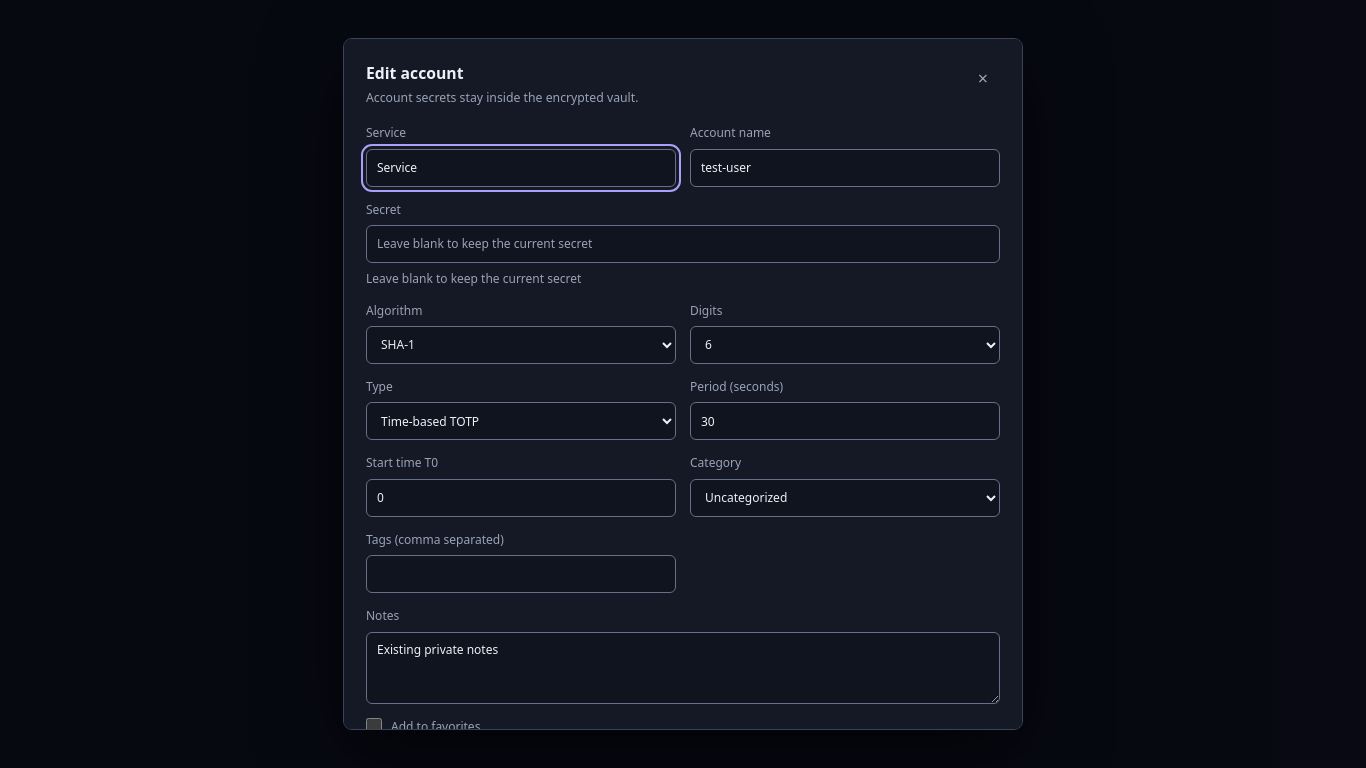
AccountDialog › clears replacement intent and secrets when closed via button and reopened
The width and height of the screenshot is (1366, 768).
Later steps or results of the test are not shown.
Check: the text box labelled "Notes" is enabled, box [366,632,1000,704]
Step 1. Type "JBSWY3DPEHPK3PXP" into the password field labelled "Secret" → (683, 244), box [366,225,1000,263]
(page scrolled)
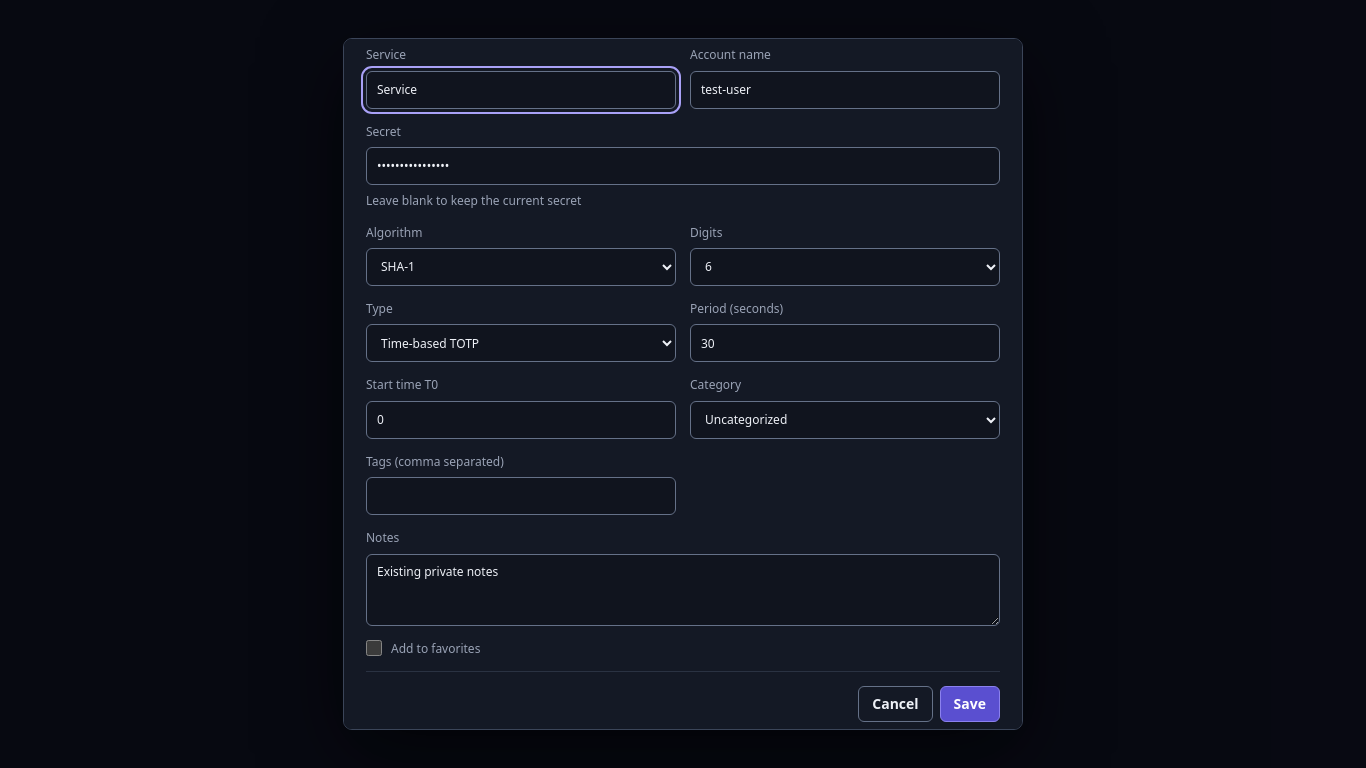
Step 2. Submit the form, box [366,46,1000,722]
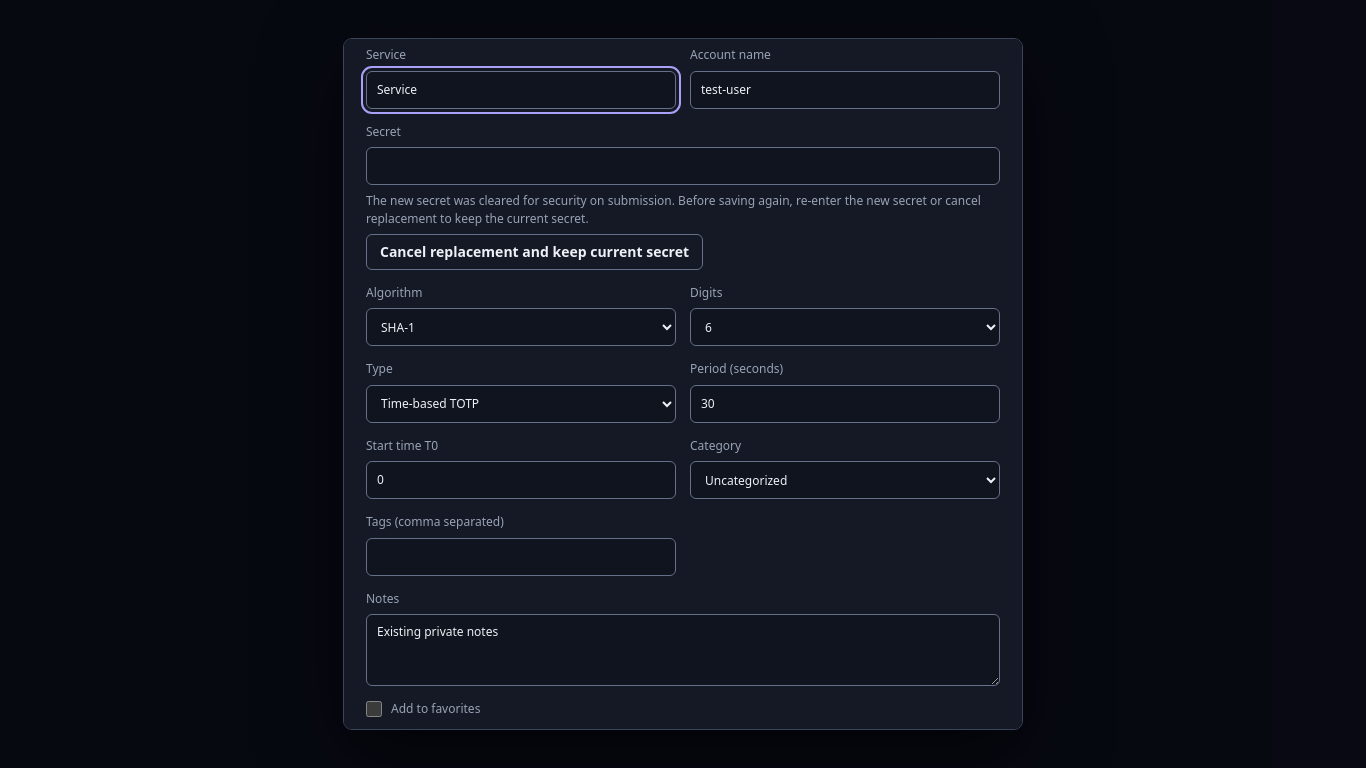
Step 3. Type "MZXW6YTBOI" into the password field labelled "Secret" → (683, 166), box [366,147,1000,185]
(page scrolled)
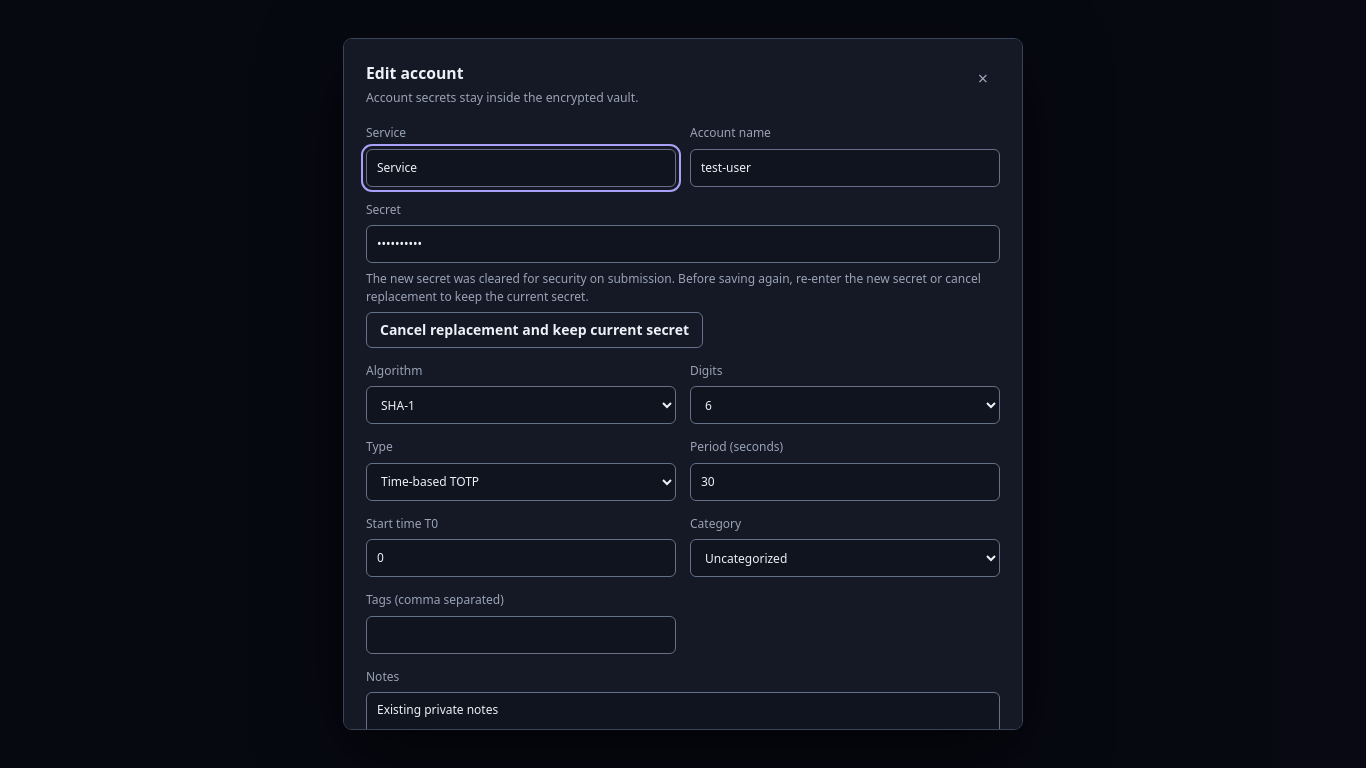
Step 4. Click the button named "Cancel" → click(983, 78), box [966,61,1000,95]
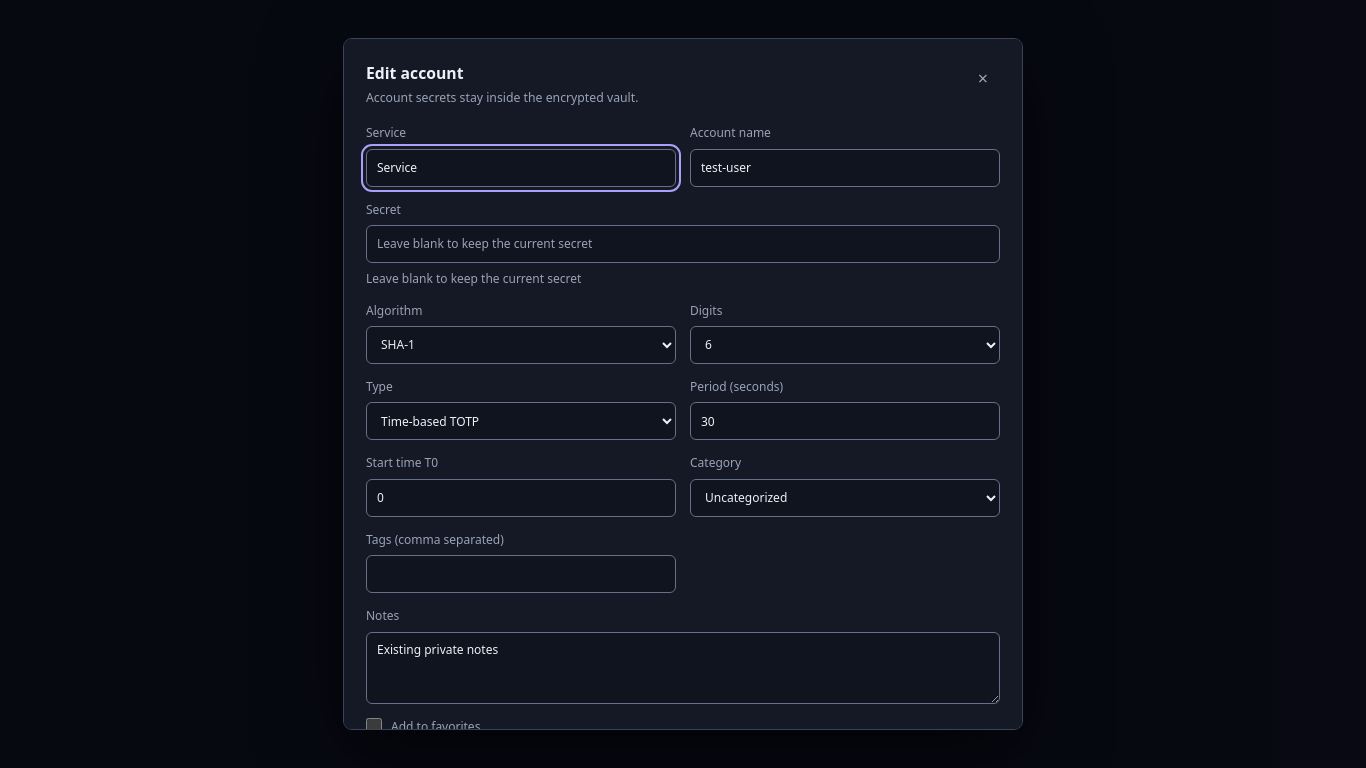
Check: the password field labelled "Secret" is empty, box [366,225,1000,263]
Check: the button "Cancel replacement and keep current secret" is gone
